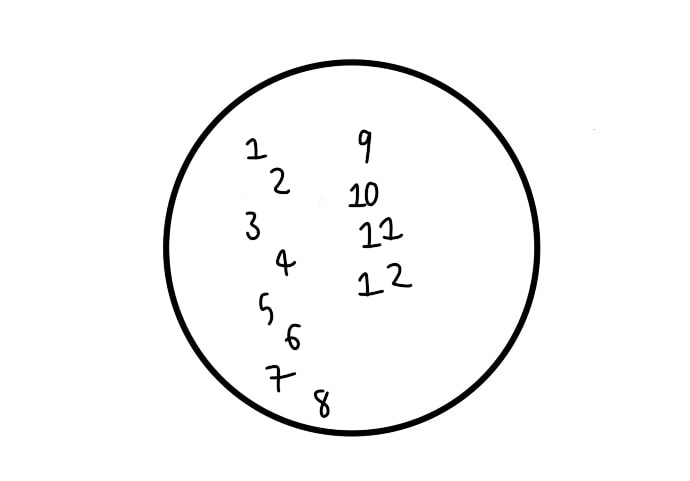eight: (312, 385, 333, 420)
eleven: (357, 215, 403, 249)
five: (255, 291, 275, 328)
four: (273, 244, 297, 281)
nine: (356, 126, 373, 166)
one: (241, 132, 269, 163)
seven: (260, 360, 297, 396)
six: (284, 319, 303, 354)
ten: (346, 180, 381, 210)
three: (242, 207, 261, 243)
twelve: (354, 261, 414, 299)
two: (268, 165, 292, 197)
